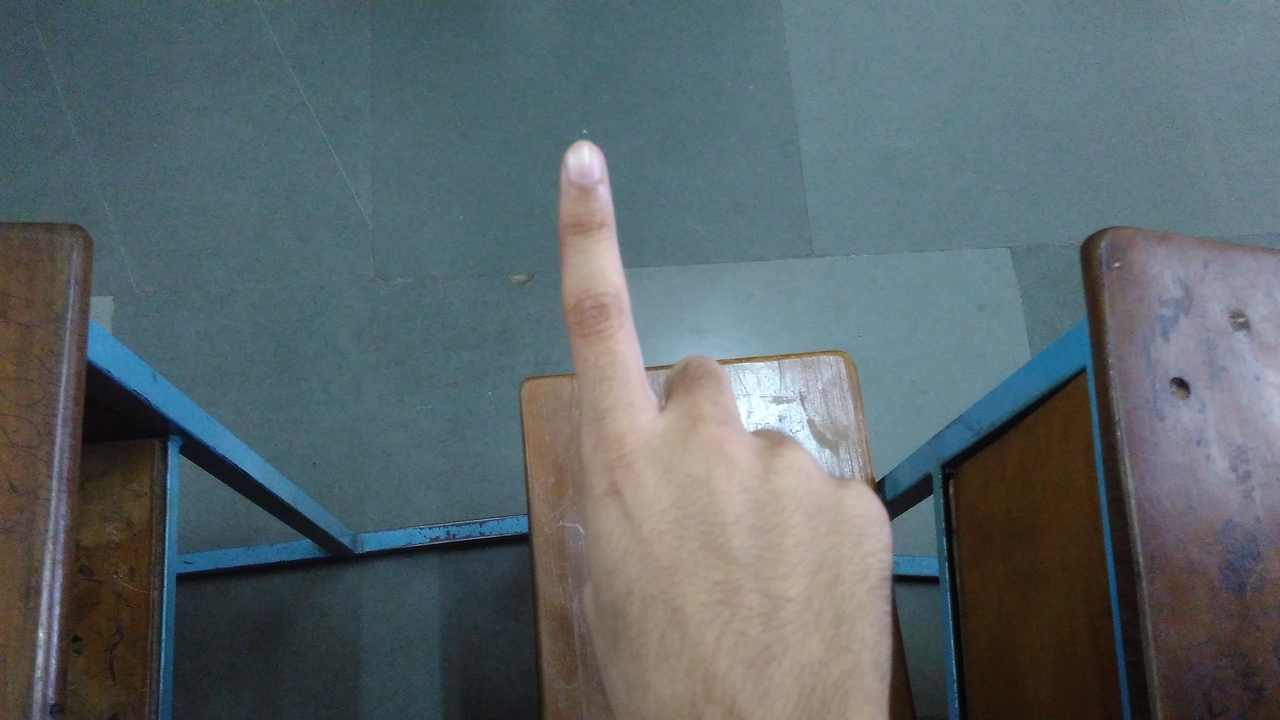fingertip: (554, 140, 618, 200)
